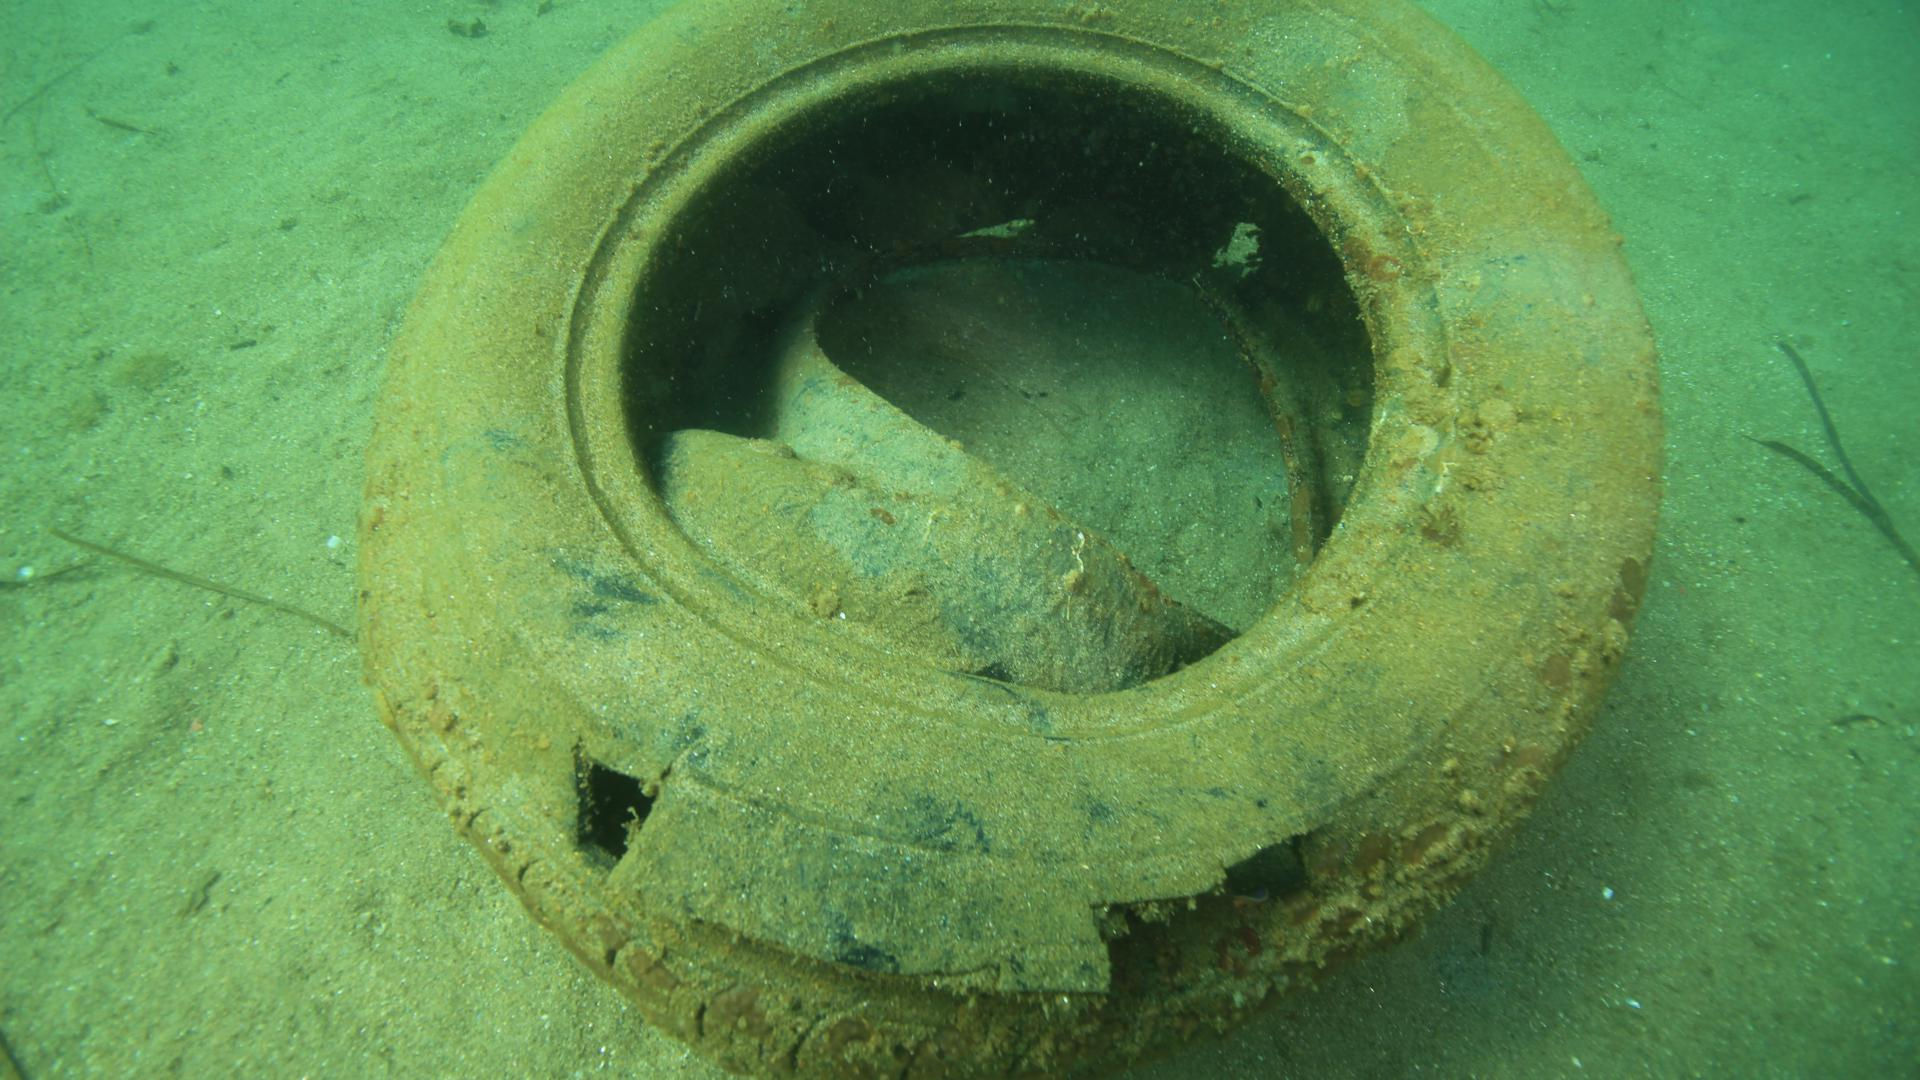tire: (347, 0, 1667, 1080)
